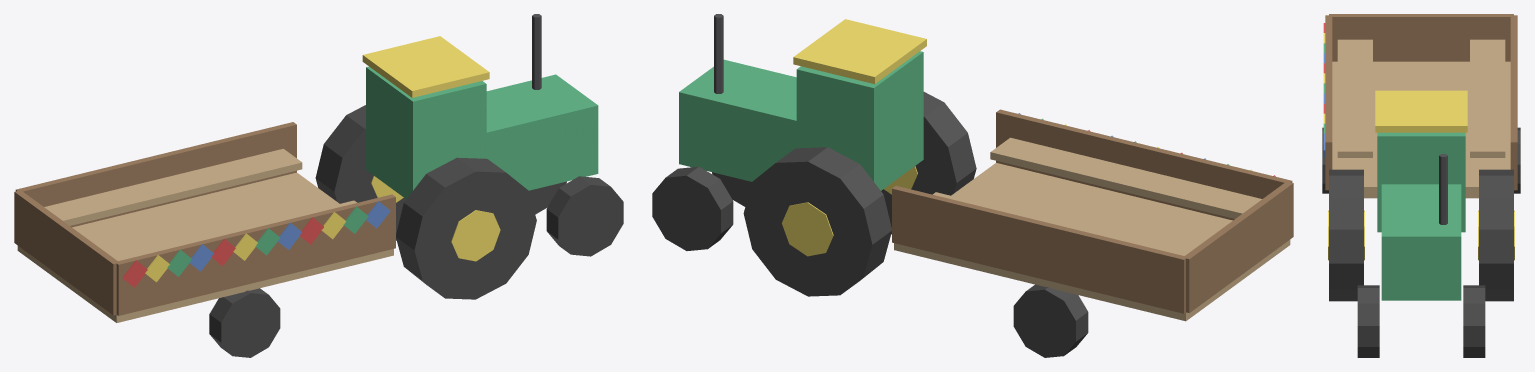
The model's file is VJ_Tractor.fbx.
3 views of the same model, side by side, from view 1: azimuth 30°, elevation 25°; view 2: azimuth 150°, elevation 25°; view 3: azimuth 270°, elevation 25° (orthographic). The views are drawn at different scales.
Visible parts, largest first — view 1: VJ_Tractor; view 2: VJ_Tractor; view 3: VJ_Tractor.
Part boxes in pixels (x1,y1,x2,y2): VJ_Tractor: (14,14,623,357); VJ_Tractor: (652,14,1293,357); VJ_Tractor: (1322,14,1520,357).
Bounding box in the file's own units: 6.44 × 2.45 × 2.25.
